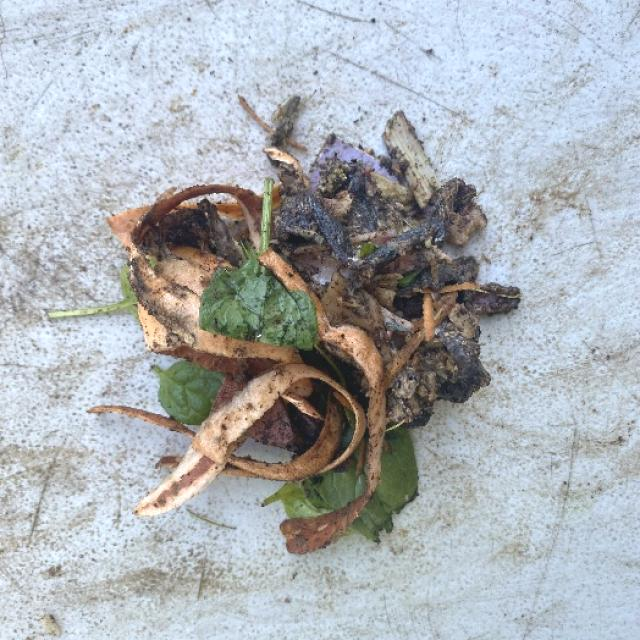organic: (140, 335, 420, 547)
